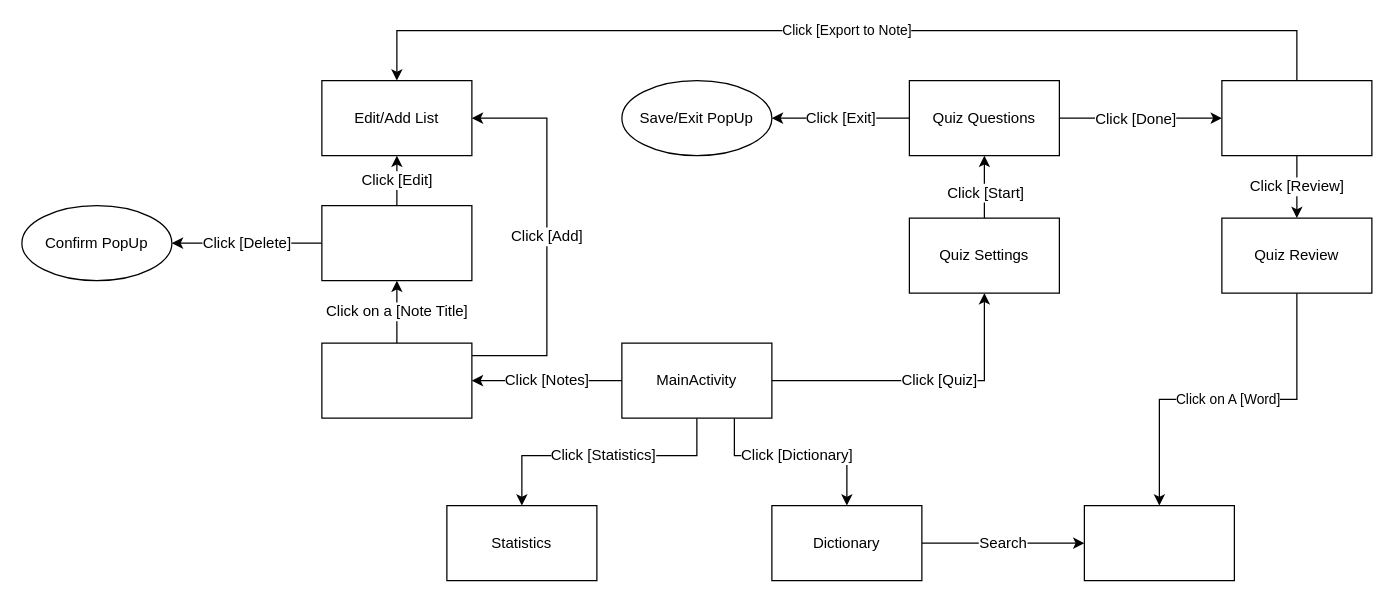
The diagram is 1394 pixels wide and 603 high, and some of its shapes have lost their labels. Here are the shapes that lost their labels. From the top down, the centre of each, then its label:
At point 1296,117: "Quiz Result".
At point 396,242: "Note Details".
At point 396,380: "Note List".
At point 1158,542: "Word Details".
